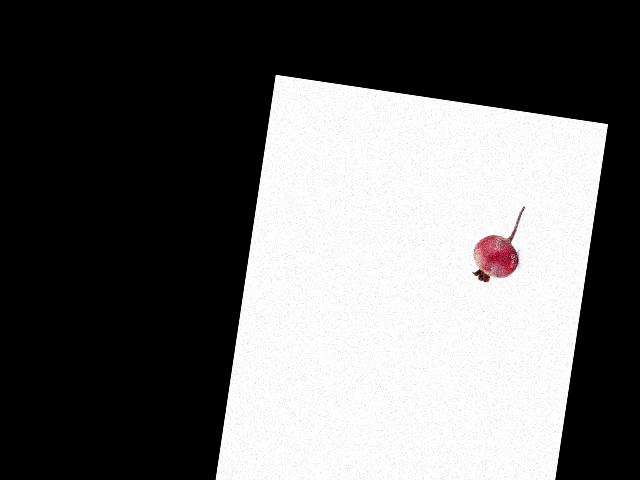beet: (469, 200, 526, 286)
